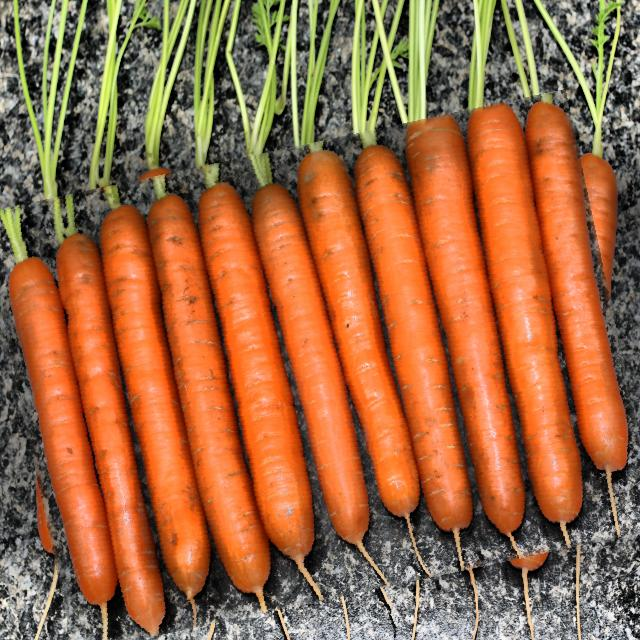carrot: (1, 118, 638, 624)
